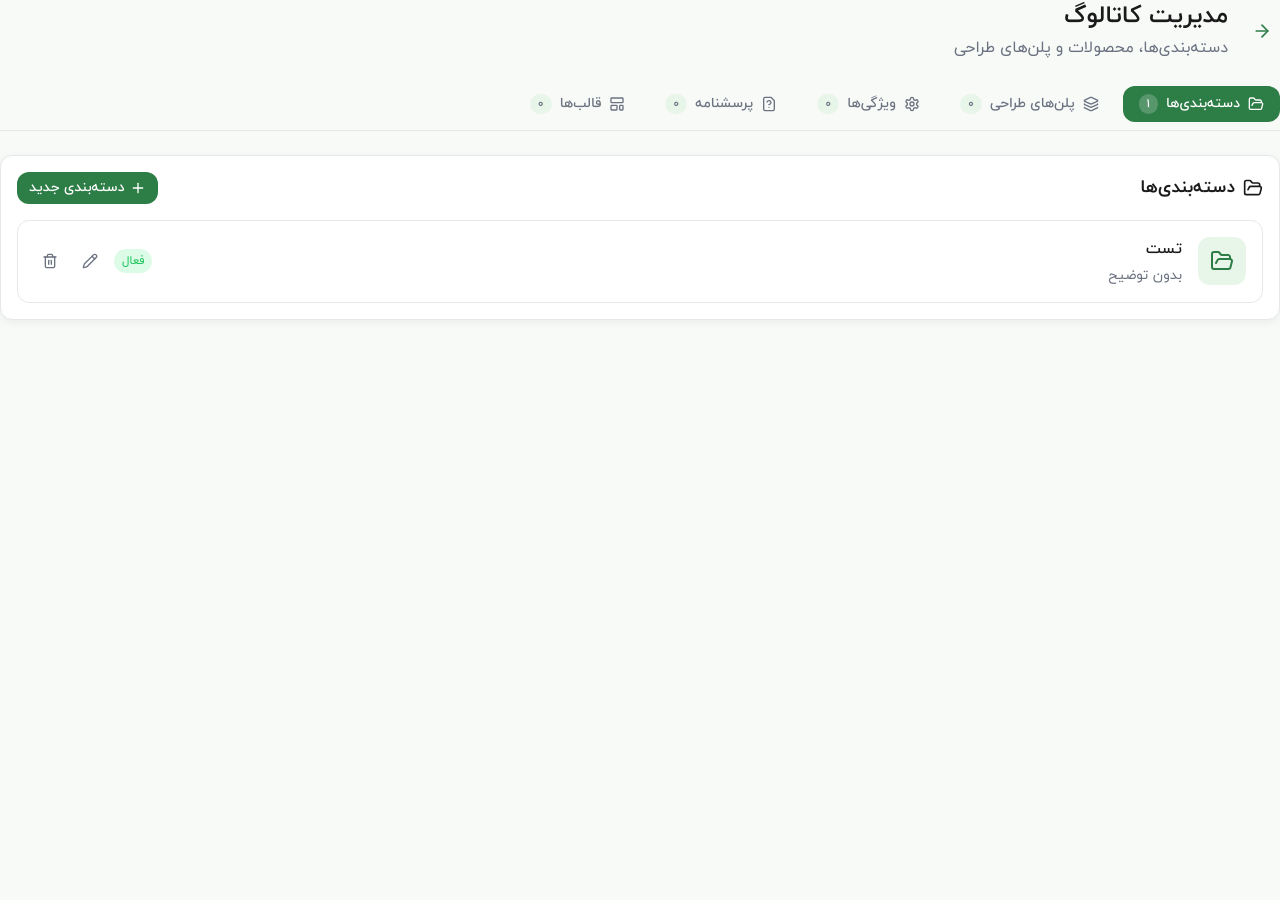
Test: Interactive Elements Audit › Admin Catalog Page › "پلن جدید" button opens modal when category is selected
Expected: the heading "مدیریت کاتالوگ" is shown, [1064, 0, 1228, 33]
# Click on Plans tab
Click the button "پلن‌های طراحی ۰": (1029,104) [944, 86, 1115, 122]
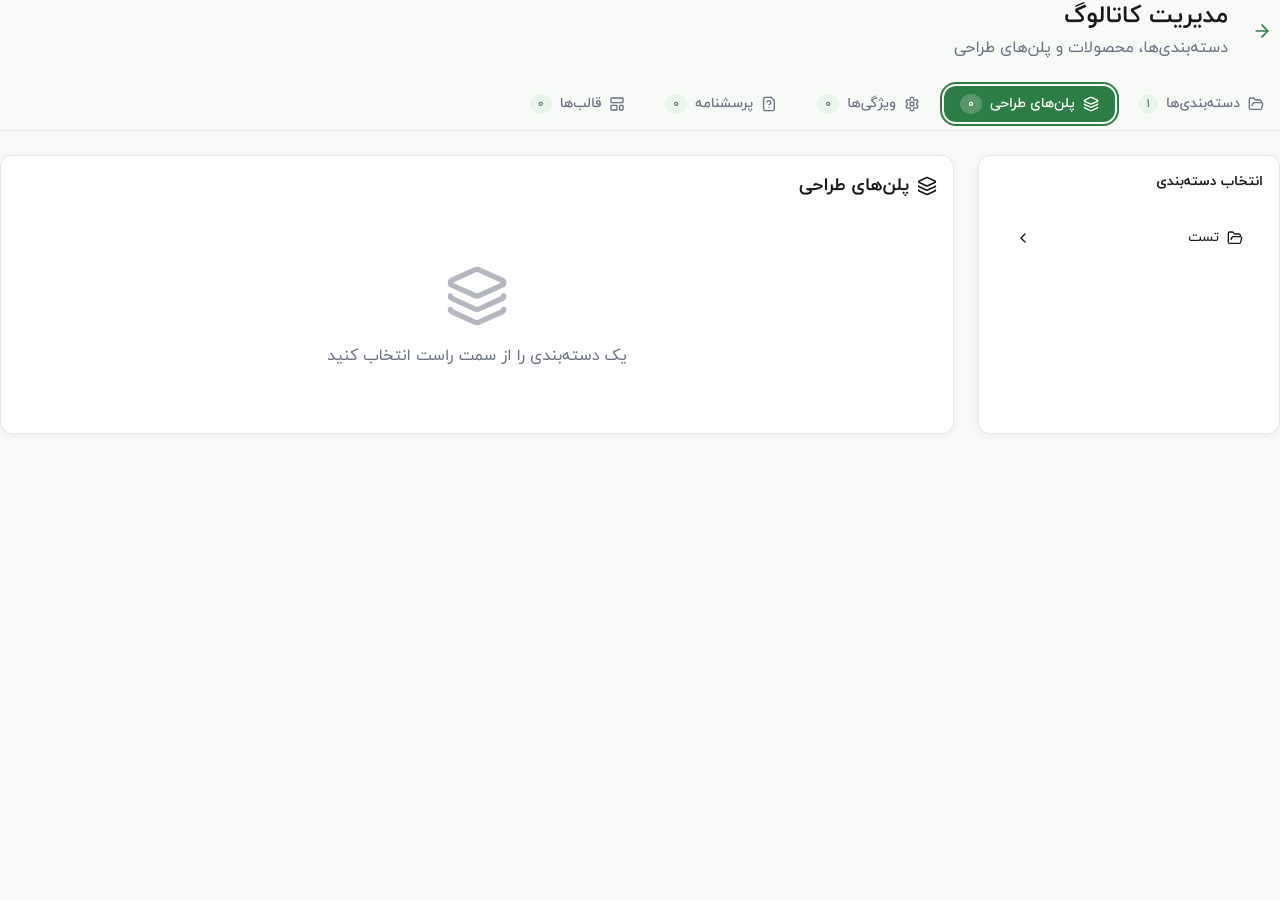
Click the button "تست": (1129,238) [1003, 216, 1255, 260]
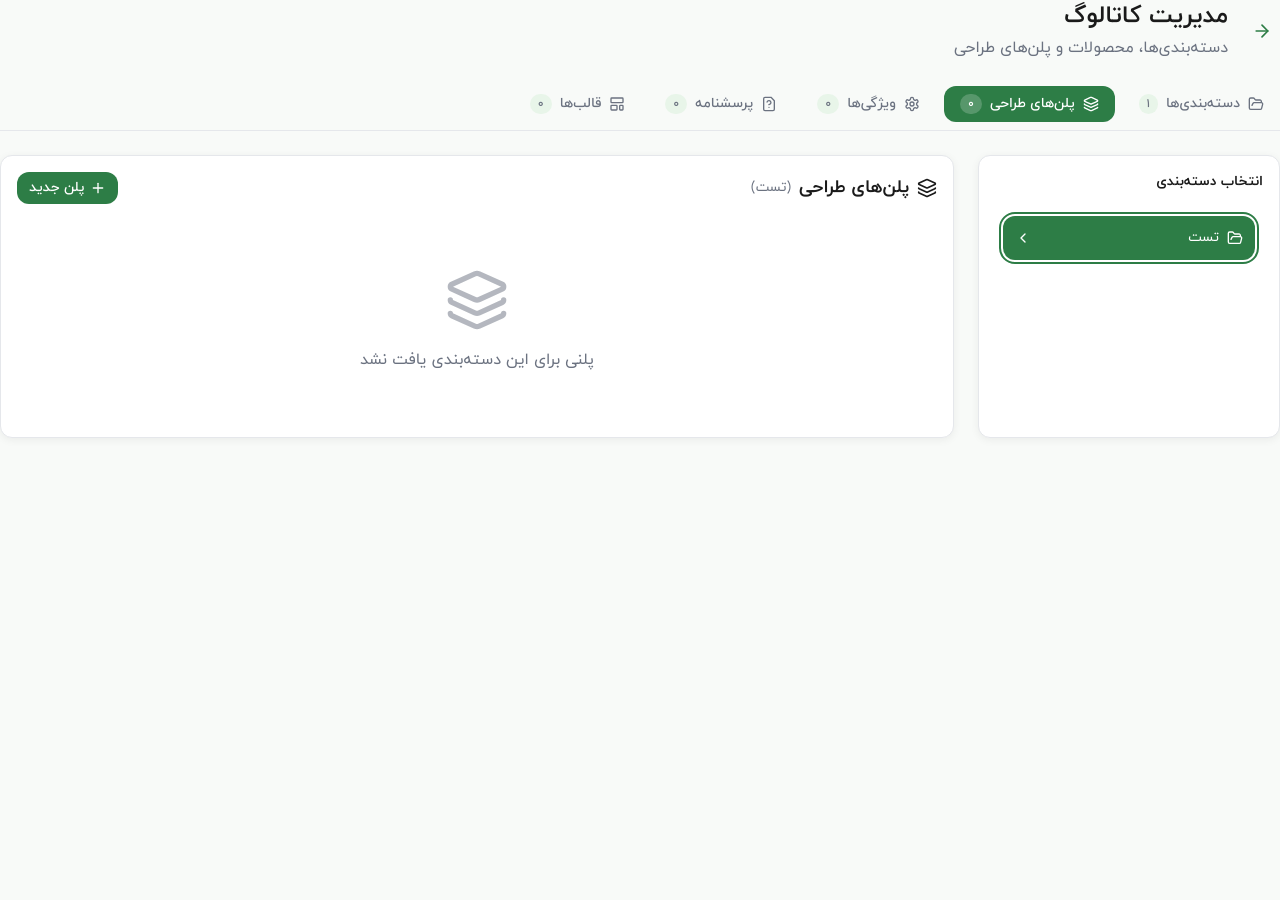
Click the button "پلن جدید": (68,188) [17, 172, 118, 204]
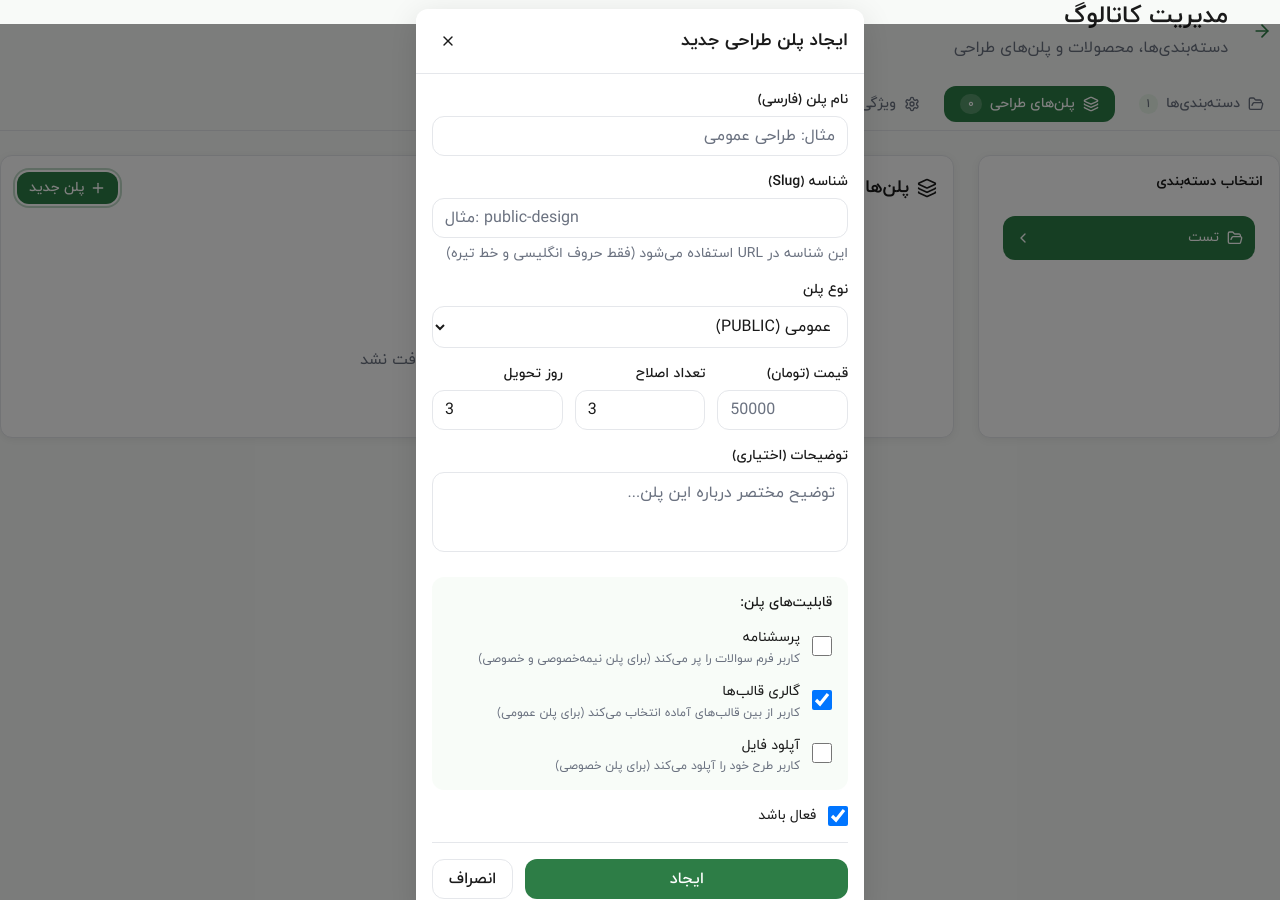
Expected: the heading "ایجاد پلن طراحی جدید" is shown, [681, 27, 848, 55]
